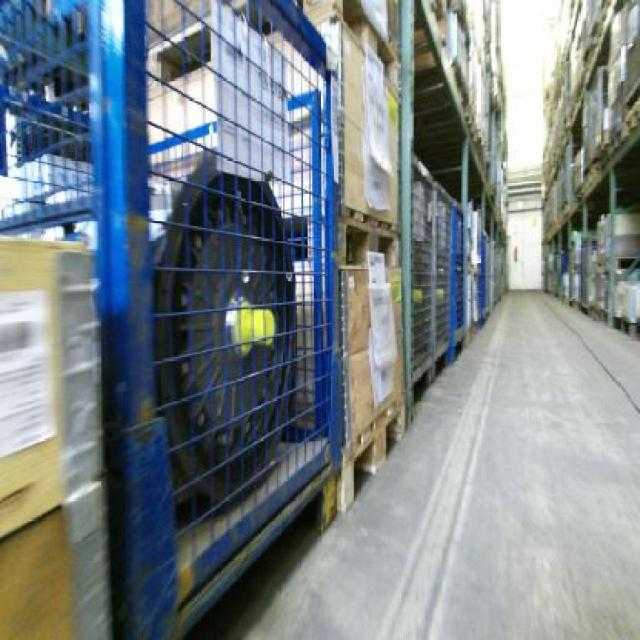pallet: (341, 391, 432, 498)
